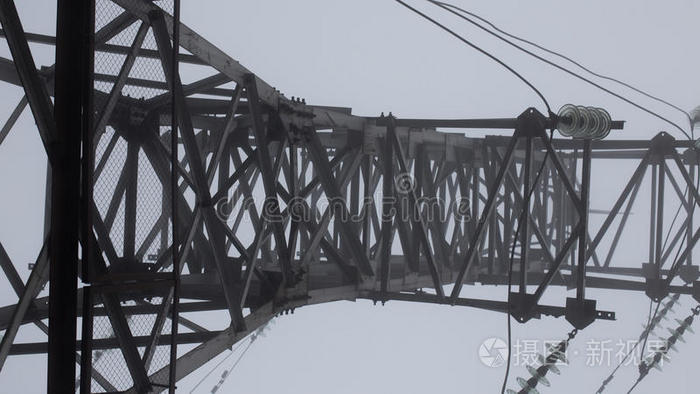insulator: (498, 342, 566, 392), (647, 318, 692, 368), (557, 101, 611, 137), (641, 295, 679, 334)
